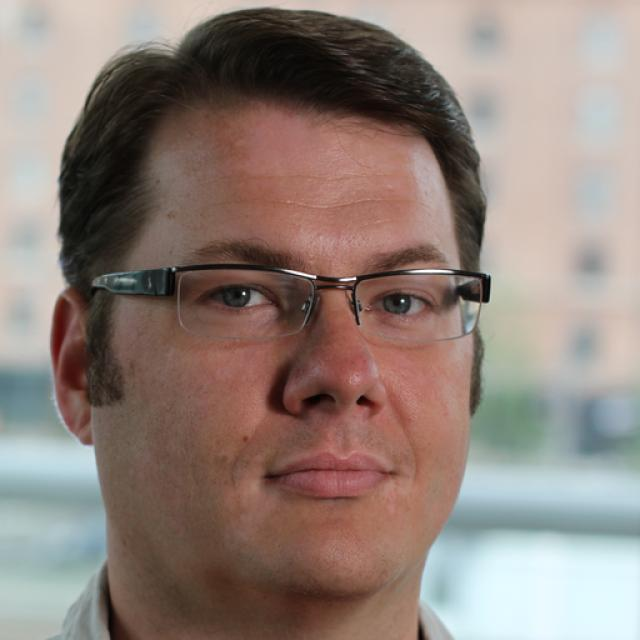Wrinkle: (196, 189, 438, 215), (209, 167, 425, 187)
